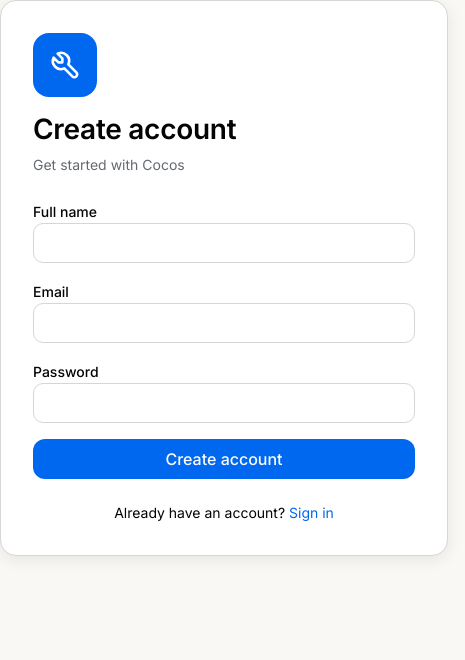
Test: RegisterPage › shows validation errors for invalid input
Click the button "Create account".
click(224, 459)  # box 33,439 -> 415,479
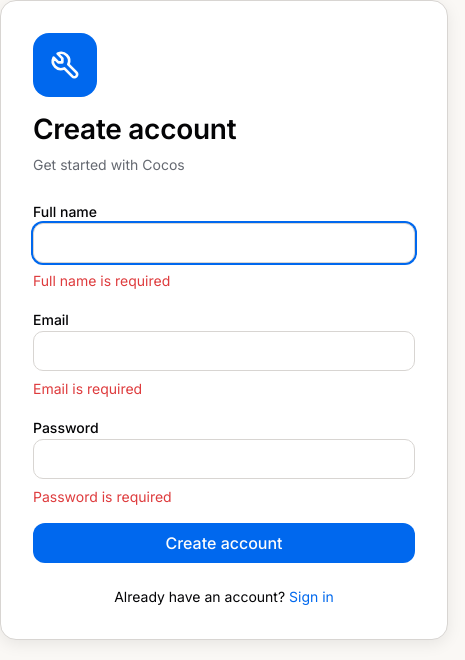
Expected: the text "Full name is required" is shown, 33,272 -> 170,289
Expected: the text "Email is required" is shown, 33,380 -> 142,397
Expected: the text "Password is required" is shown, 33,488 -> 172,505
